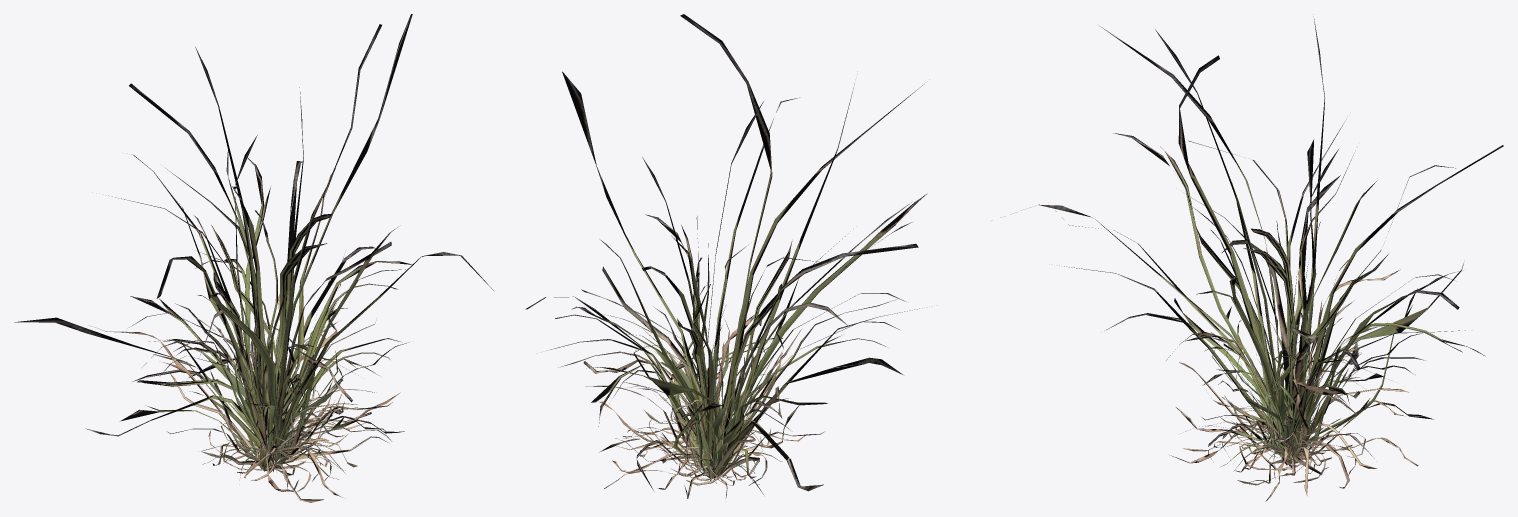
The model's file is grass_medium_02_specimens.glb.
3 views of the same model, side by side, from view 1: azimuth 30°, elevation 25°; view 2: azimuth 150°, elevation 25°; view 3: azimuth 270°, elevation 25° (orthographic). The views are drawn at different scales.
Visible parts, largest first — view 1: grass_medium_02_specimen_4, grass_medium_02_specimen_3, grass_medium_02_specimen_2, grass_medium_02_specimen_1, grass_medium_02_specimen_0; view 2: grass_medium_02_specimen_4, grass_medium_02_specimen_3, grass_medium_02_specimen_2, grass_medium_02_specimen_1, grass_medium_02_specimen_0; view 3: grass_medium_02_specimen_4, grass_medium_02_specimen_3, grass_medium_02_specimen_2, grass_medium_02_specimen_1, grass_medium_02_specimen_0.
Part boxes in pixels (bbox=[...]): grass_medium_02_specimen_4: bbox=[14, 14, 493, 491]; grass_medium_02_specimen_3: bbox=[120, 150, 412, 502]; grass_medium_02_specimen_2: bbox=[173, 210, 398, 481]; grass_medium_02_specimen_1: bbox=[223, 281, 400, 480]; grass_medium_02_specimen_0: bbox=[202, 293, 338, 479]; grass_medium_02_specimen_4: bbox=[525, 14, 927, 498]; grass_medium_02_specimen_3: bbox=[541, 235, 919, 499]; grass_medium_02_specimen_2: bbox=[560, 216, 896, 473]; grass_medium_02_specimen_1: bbox=[599, 310, 806, 488]; grass_medium_02_specimen_0: bbox=[623, 325, 760, 484]; grass_medium_02_specimen_4: bbox=[1030, 19, 1503, 464]; grass_medium_02_specimen_3: bbox=[1059, 180, 1465, 485]; grass_medium_02_specimen_2: bbox=[1193, 207, 1485, 501]; grass_medium_02_specimen_1: bbox=[1179, 262, 1418, 495]; grass_medium_02_specimen_0: bbox=[1221, 285, 1361, 466].
Bounding box in the file's own units: 0.3553 × 0.4032 × 0.4332.
Materials: 1 (1 with a texture image).
